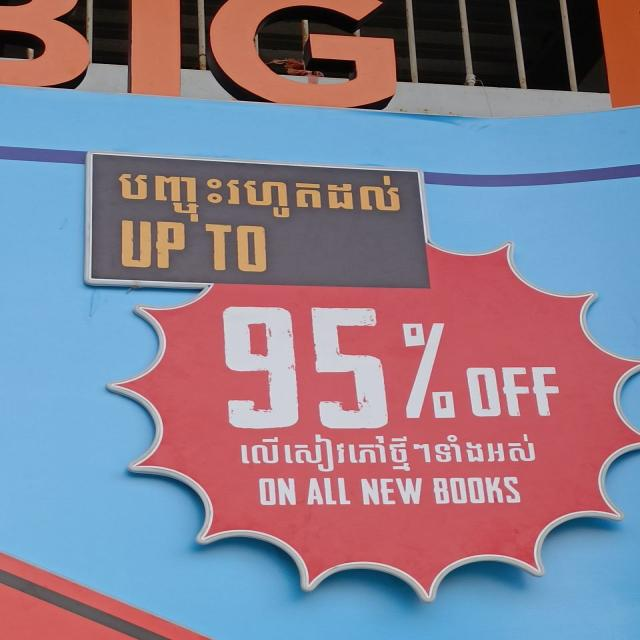Yolov11kh: (108, 165, 413, 233), (234, 430, 543, 476)
